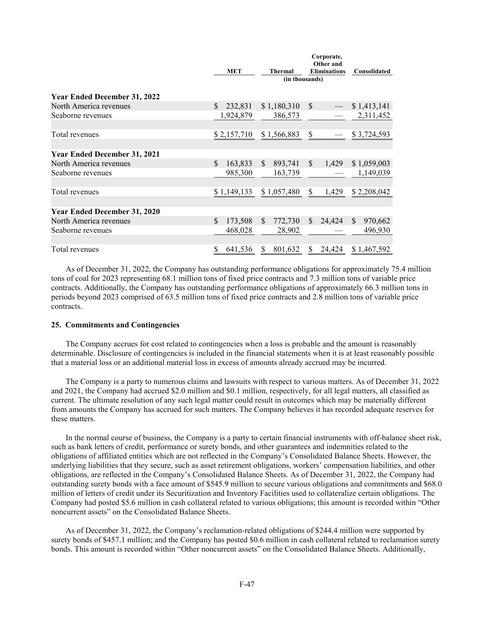box: (49, 50, 394, 259)
